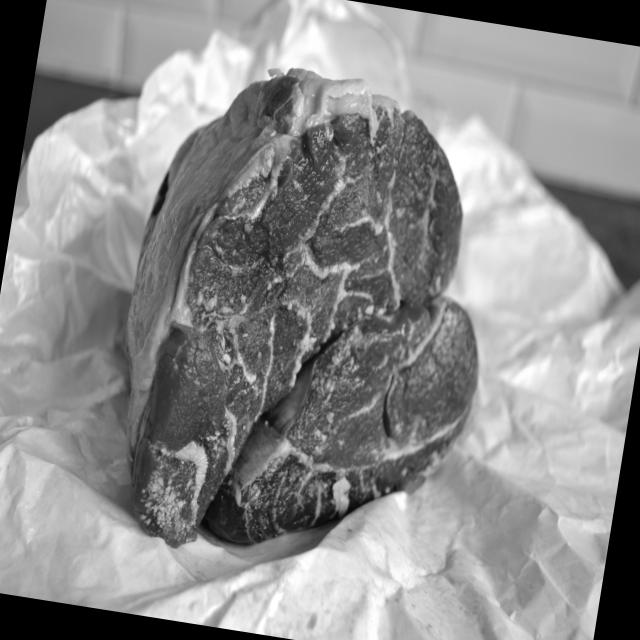chan gio: (93, 54, 520, 584)
